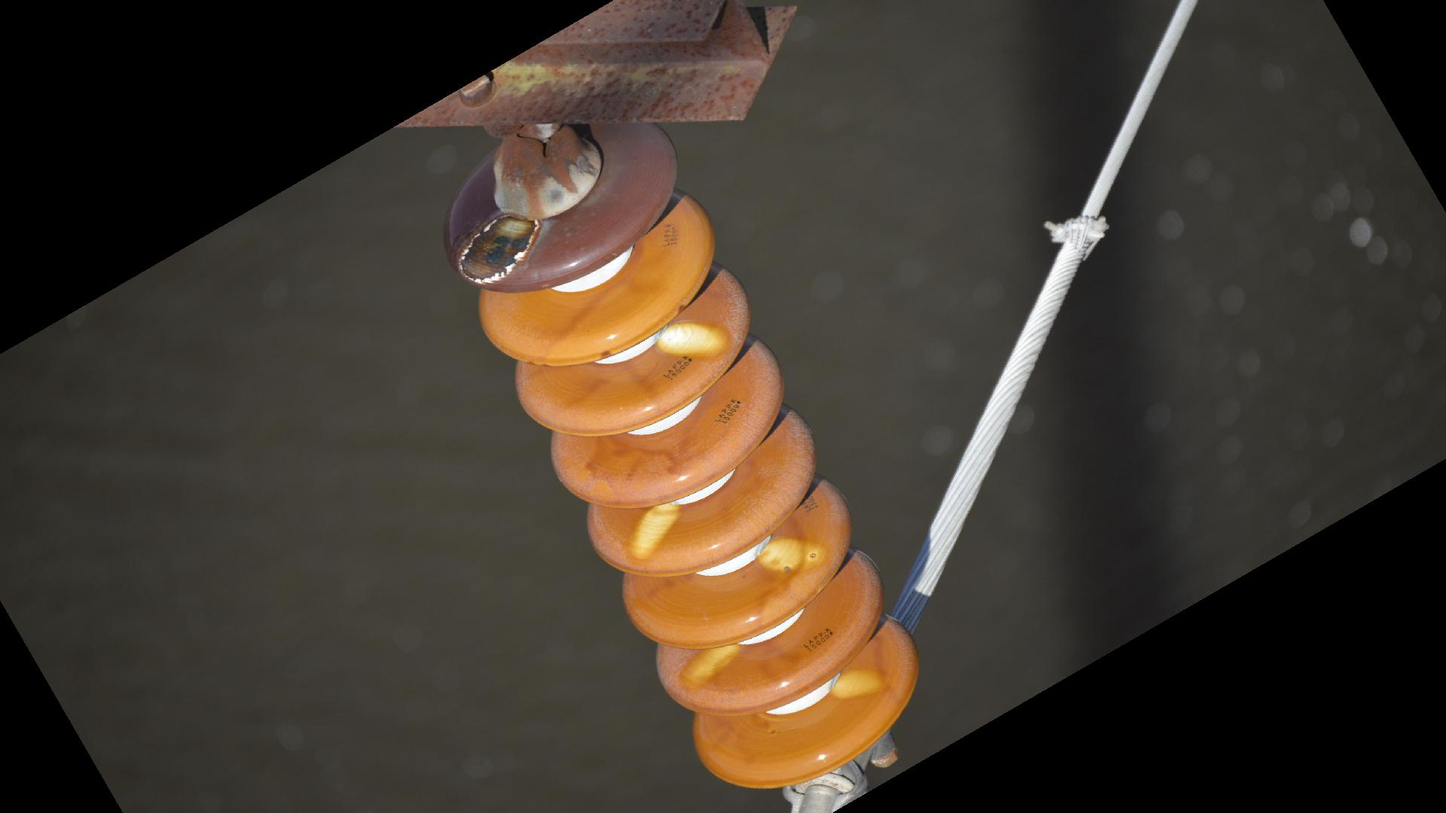insulator: (435, 117, 927, 797)
insulator_flashover: (456, 206, 541, 288), (624, 495, 685, 565), (654, 314, 734, 364), (675, 640, 746, 693), (752, 531, 829, 577), (827, 668, 891, 702)
